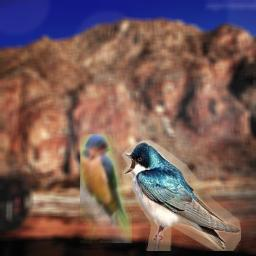Swallow: (122, 140, 241, 251), (80, 134, 132, 243)
